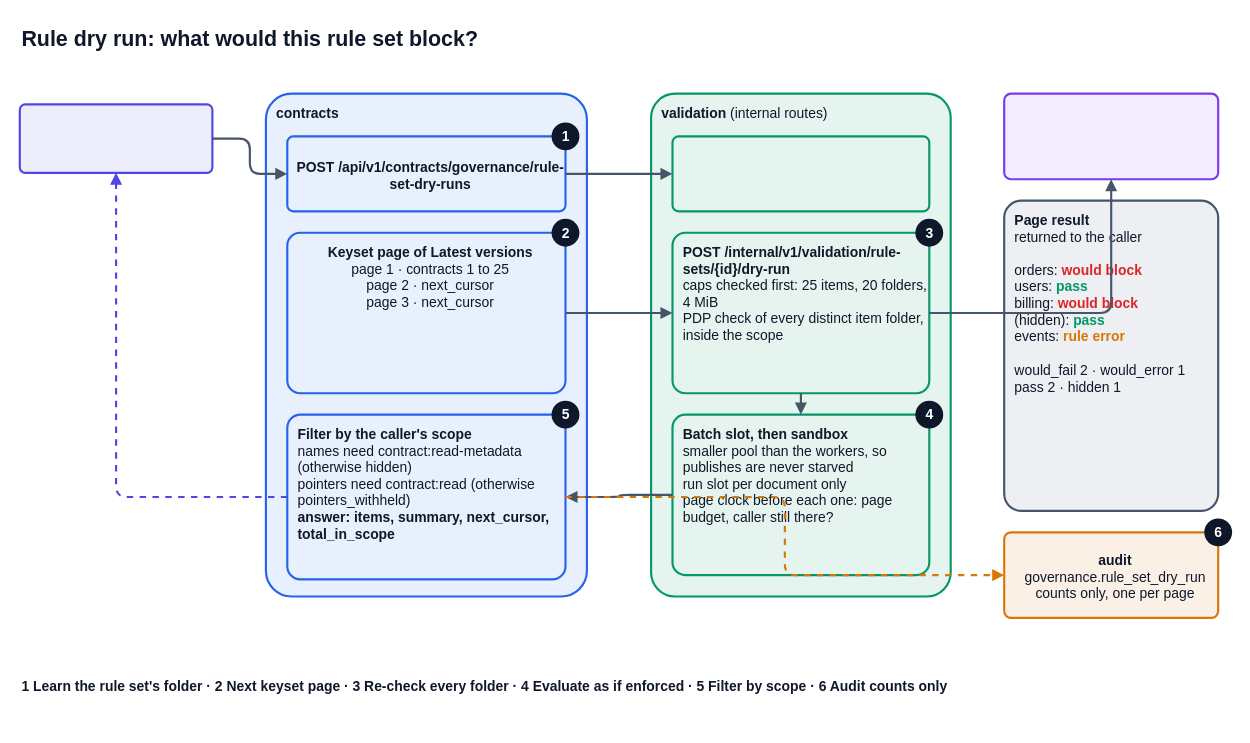
Image size: 1250x743. Some labels were removed from this diagram. The shapes that lost their labels are listed below. From the top down, each one's centre as x and y in pixels, then its label:
At (115,138): "Policy Manager rule_set_id, version".
At (1111,136): "identity PDP permission and scope checks with the caller's bearer".
At (800,173): "GET /api/v1/validation/rule-sets/{id} : the folder".
